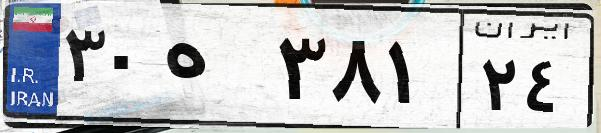0: (110, 28, 158, 98)
1: (385, 28, 445, 110)
2: (475, 38, 525, 113)
3: (270, 28, 330, 110), (57, 26, 110, 100)
4: (525, 38, 570, 115)
8: (330, 28, 385, 110)
ه: (158, 20, 270, 120)
